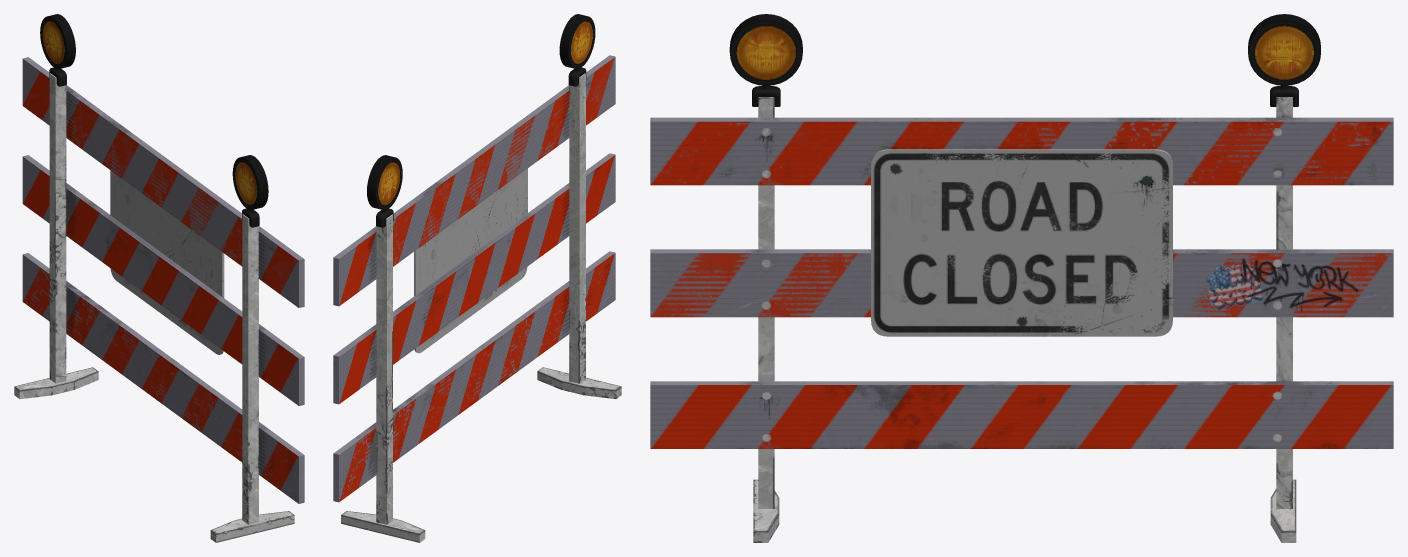
File: Prop_RoadBarrier.fbx
3 renders of one model, left to right at view 1: azimuth 30°, elevation 25°; view 2: azimuth 150°, elevation 25°; view 3: azimuth 270°, elevation 25°, orthographic. The views are drawn at different scales.
Visible parts, largest first — view 1: Prop_RoadBarrier; view 2: Prop_RoadBarrier; view 3: Prop_RoadBarrier.
Boxes of the visible parts, x1,y1,x2,y2 form: Prop_RoadBarrier: (14,14,304,542); Prop_RoadBarrier: (333,14,621,542); Prop_RoadBarrier: (650,14,1393,542).
Bounding box in the file's own units: 12.34 × 55.72 × 75.04.
